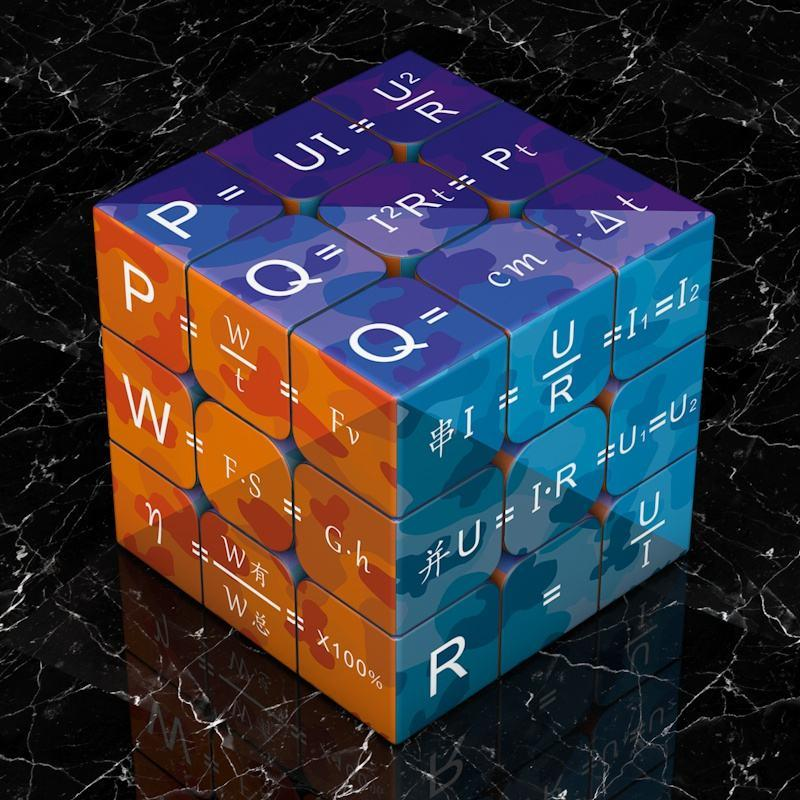cube: (51, 35, 743, 756)
